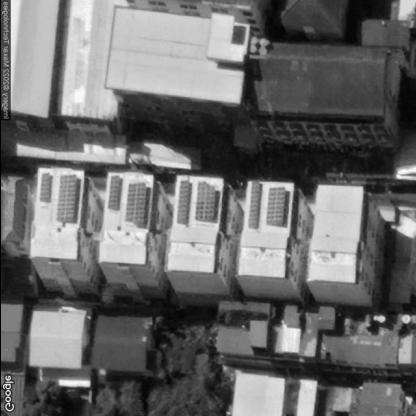solar-pv-panel: (123, 183, 147, 224), (56, 176, 76, 221), (264, 186, 283, 227), (194, 182, 213, 222), (247, 180, 260, 229), (175, 181, 190, 223), (107, 176, 121, 210), (40, 173, 50, 203)
